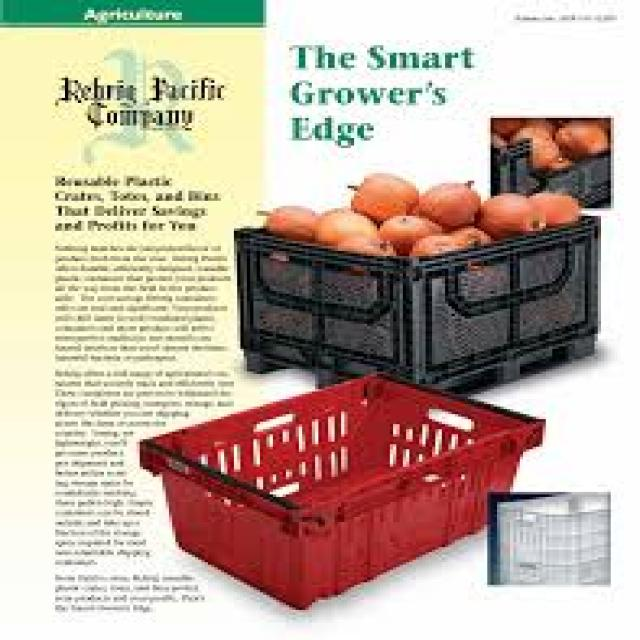basket: (132, 288, 574, 640), (237, 218, 604, 396)
